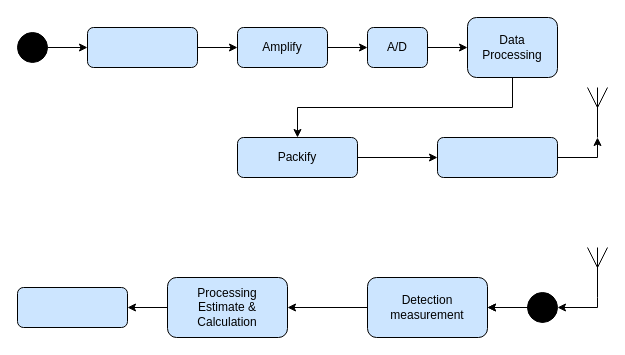
Image size: 625x355. Some labels were removed from this diagram. Each missing label, with the box of its shape:
Measure: (86, 26, 198, 68)
Send to biosystem: (16, 286, 128, 328)
Transmit: (436, 136, 558, 178)
